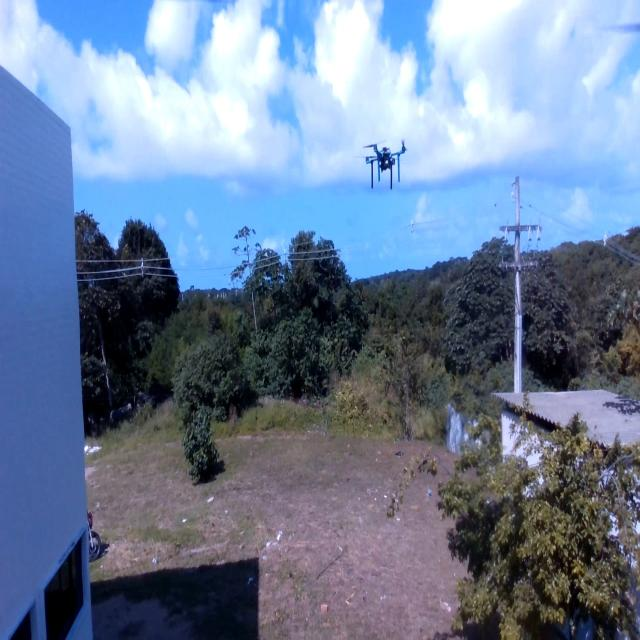-uav-: (350, 130, 418, 197)
